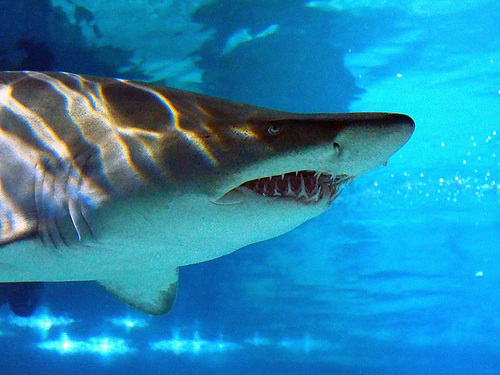shark: (5, 38, 421, 322)
